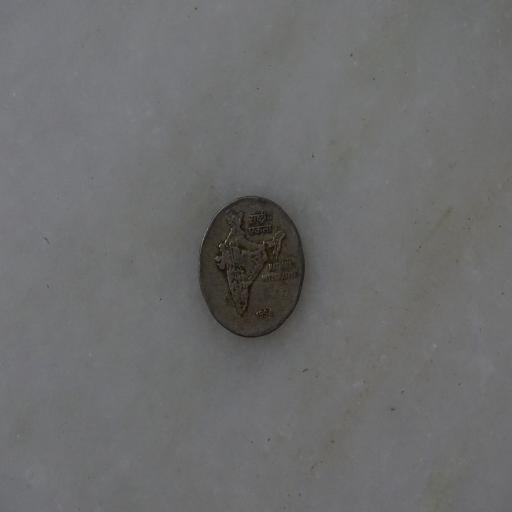rupee2: (195, 191, 308, 339)
